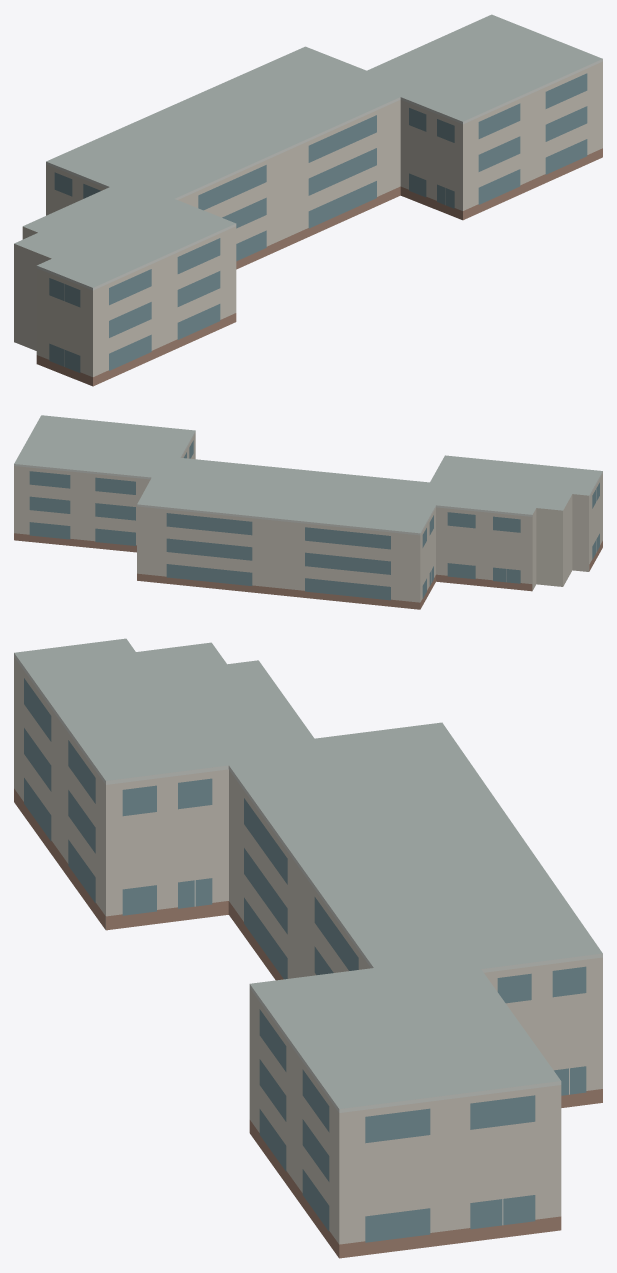
Rendered from survey-upis-32813360.glb.
The picture shows the model from 3 angles, top to bottom: view 1: azimuth 30°, elevation 25°; view 2: azimuth 150°, elevation 25°; view 3: azimuth 270°, elevation 25°; orthographic projection. The views are drawn at different scales.
Parts seen in each view (by area): view 1: survey-upis-32813360.tmp; view 2: survey-upis-32813360.tmp; view 3: survey-upis-32813360.tmp.
Boxes of the visible parts, x1,y1,x2,y2 form: survey-upis-32813360.tmp: (14,14,602,386); survey-upis-32813360.tmp: (14,415,602,609); survey-upis-32813360.tmp: (14,638,602,1258).
Size of the model in its own units: 61.85 by 9.15 by 32.71.
